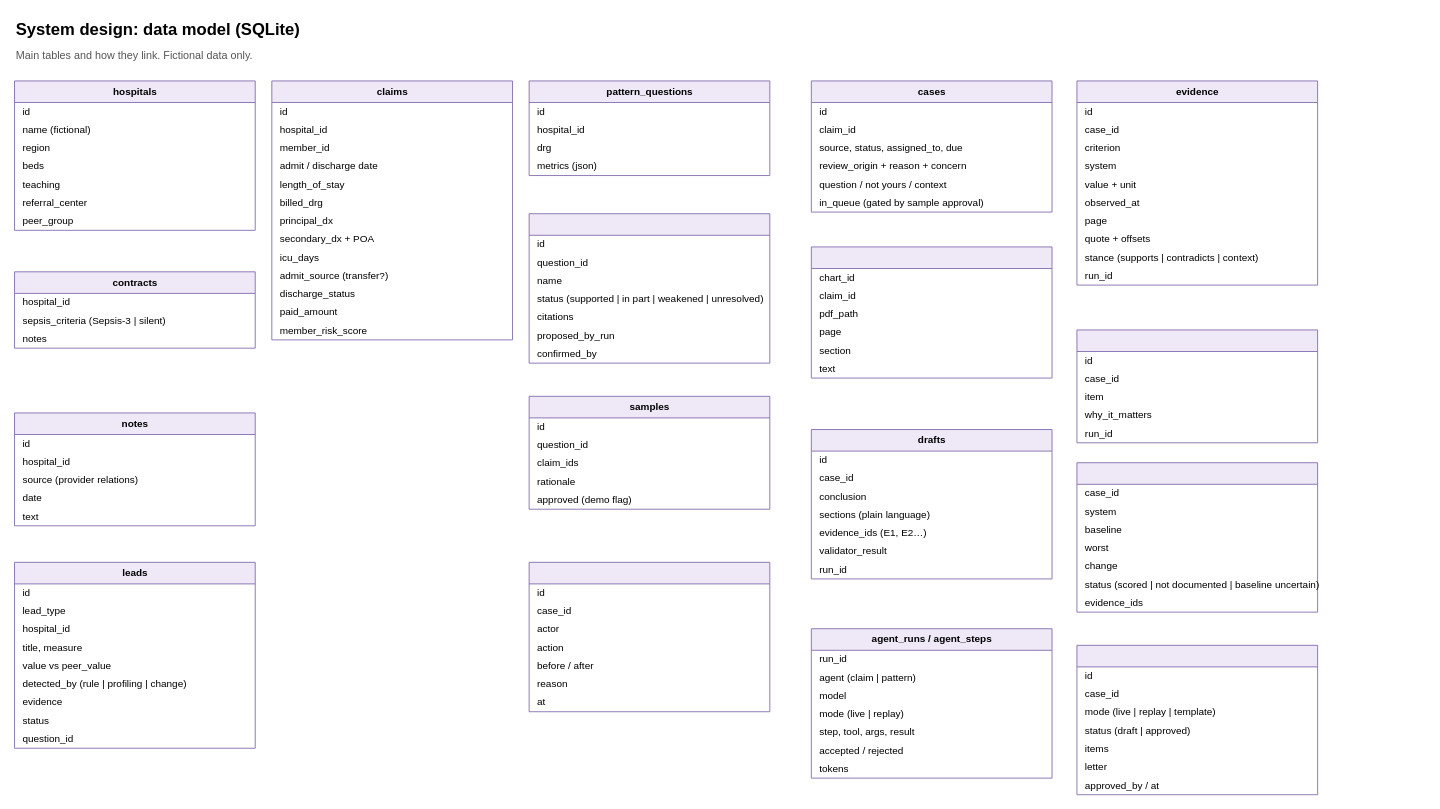
Image size: 1440x809. Some labels were removed from this diagram. Here are the shapes that lost their labels. From the top down, the box of each, then its label:
(528, 213, 770, 363): explanations
(810, 246, 1052, 378): charts / chart_pages
(1076, 329, 1318, 443): gaps
(1076, 462, 1318, 612): sofa_results
(528, 561, 770, 712): review_actions
(1076, 644, 1318, 795): records_requests
